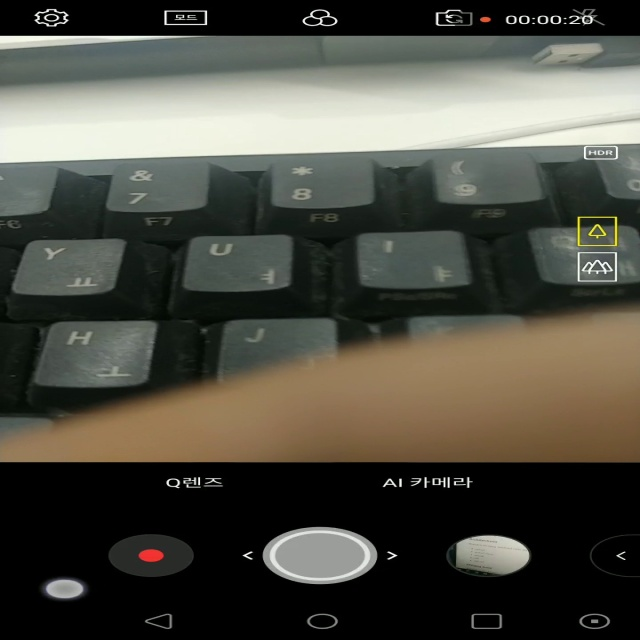Cursor: (43, 579, 88, 601)
